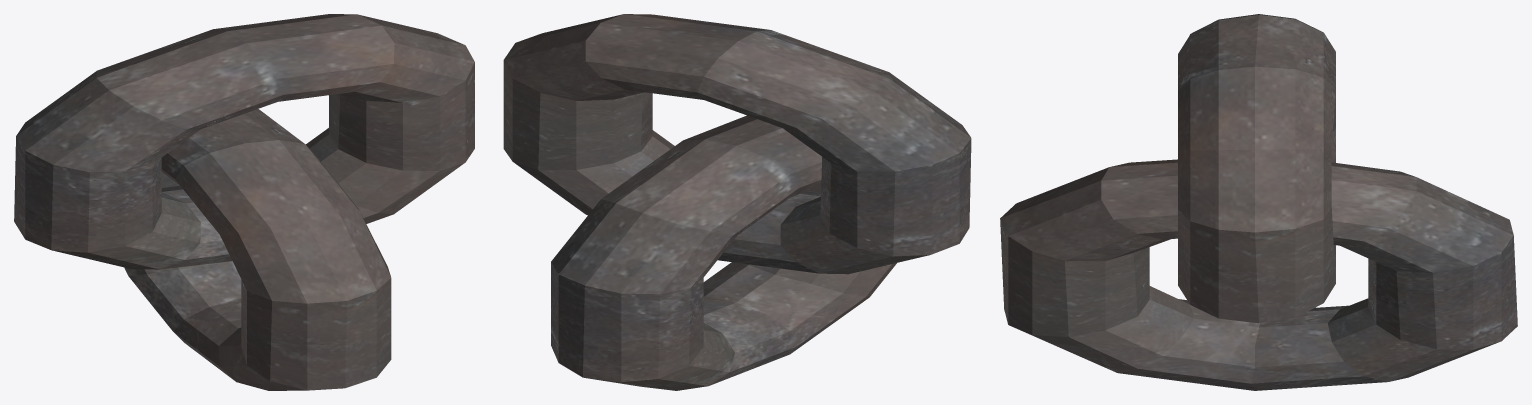
The model's file is SM_ChainLink_01_Splines_1.fbx.
3 views of the same model, side by side, from view 1: azimuth 30°, elevation 25°; view 2: azimuth 150°, elevation 25°; view 3: azimuth 270°, elevation 25° (orthographic). The views are drawn at different scales.
Parts seen in each view (by area): view 1: SM_ChainLink_01_Splines_1; view 2: SM_ChainLink_01_Splines_1; view 3: SM_ChainLink_01_Splines_1.
Part boxes in pixels (<box>): SM_ChainLink_01_Splines_1: <box>14,14,474,390</box>; SM_ChainLink_01_Splines_1: <box>503,14,971,390</box>; SM_ChainLink_01_Splines_1: <box>1000,14,1517,390</box>.
Size of the model in its own units: 3.99 by 4 by 2.62.
